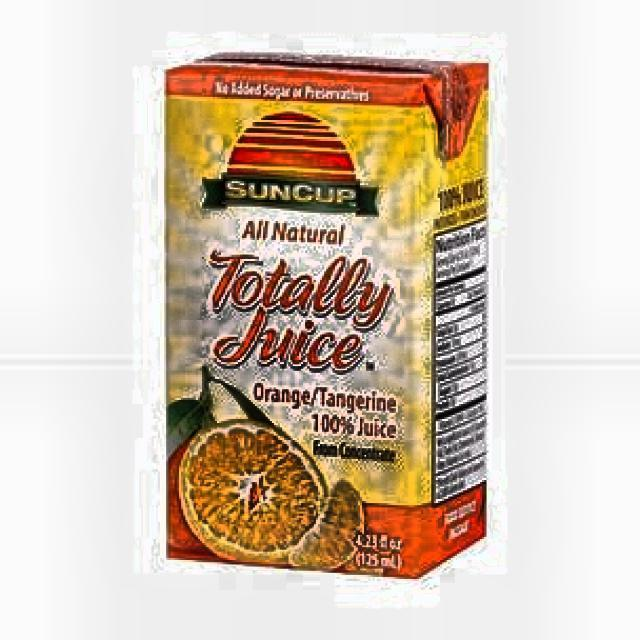cardboard: (162, 50, 489, 579)
